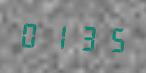five: (99, 21, 125, 55)
one: (45, 18, 71, 52)
three: (72, 20, 98, 54)
zero: (18, 17, 44, 51)
